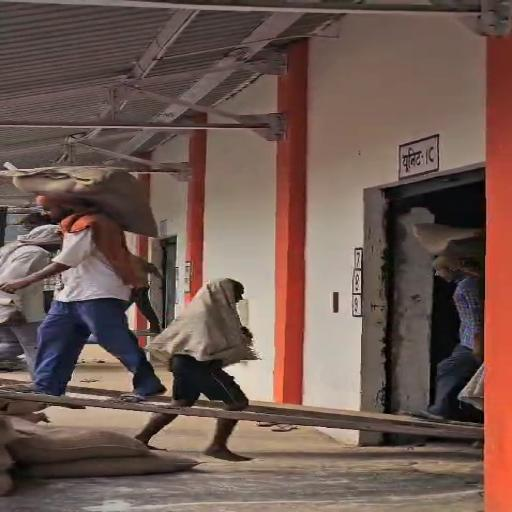bag: (0, 160, 164, 238)
